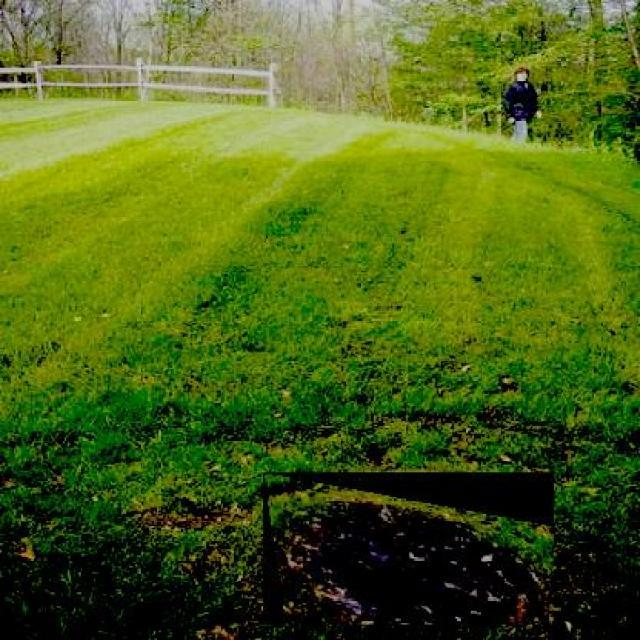Manhole: (263, 472, 554, 625)
